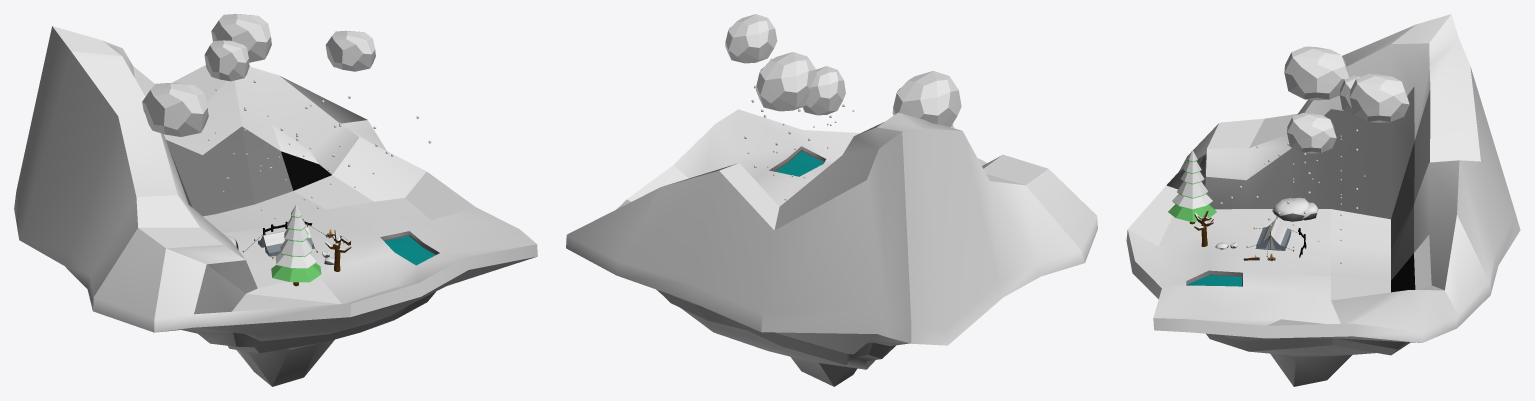
File: Floating_Island1_Export.fbx
3 renders of one model, left to right at view 1: azimuth 30°, elevation 25°; view 2: azimuth 150°, elevation 25°; view 3: azimuth 270°, elevation 25°, orthographic. The views are drawn at different scales.
Visible parts, largest first — view 1: Island, bolder1, Pine_tree_Snow:Pinetree_snow, bolder8, bolder9, bolder7, Tent; view 2: Island, bolder8, bolder1, bolder9, bolder7; view 3: Island, bolder1, bolder8, Pine_tree_Snow:Pinetree_snow, bolder9, Tent, bolder3, bolder7.
Part boxes in pixels (<box>): Island: <box>14,26,537,386</box>; bolder1: <box>142,83,208,136</box>; Pine_tree_Snow:Pinetree_snow: <box>271,204,321,286</box>; bolder8: <box>211,14,271,62</box>; bolder9: <box>325,30,375,71</box>; bolder7: <box>204,40,249,81</box>; Tent: <box>258,227,314,256</box>; Island: <box>566,109,1097,386</box>; bolder8: <box>756,52,816,111</box>; bolder1: <box>892,71,961,127</box>; bolder9: <box>725,14,777,63</box>; bolder7: <box>802,66,845,115</box>; Island: <box>1126,14,1520,386</box>; bolder1: <box>1284,46,1349,100</box>; bolder8: <box>1349,73,1409,122</box>; Pine_tree_Snow:Pinetree_snow: <box>1168,150,1216,224</box>; bolder9: <box>1287,113,1336,153</box>; Tent: <box>1255,218,1291,250</box>; bolder3: <box>1272,197,1310,221</box>; bolder7: <box>1339,75,1361,116</box>.
Bounding box in the file's own units: 51.09 × 41.1 × 48.42.
